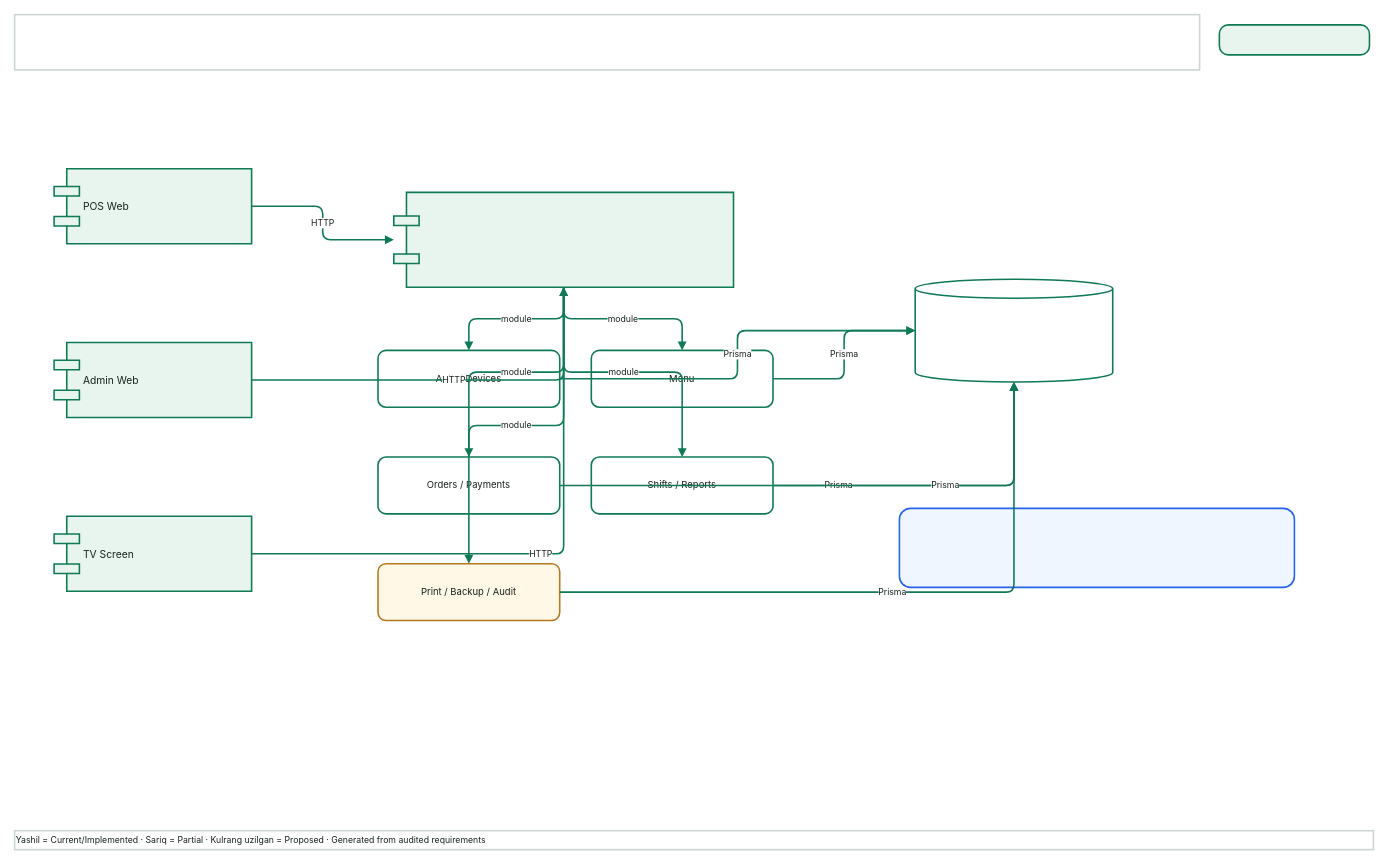
Image size: 1387x863. Some labels were removed from this diagram. Each missing label, with the centre of its shape:
Current: pixel 1294 39
D21 · Current Modular Monolith Architecture · osonCafe SDLC: pixel 606 41
Offline-first LAN Internet talab qilinmaydi: pixel 1096 547
Single Deployable Hub Node.js · Express · TypeScript: pixel 563 239
SQLite single local database: pixel 1013 330
